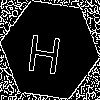H: (25, 25, 65, 75)
